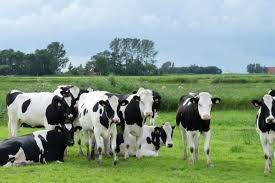waka: (76, 83, 129, 167), (173, 88, 221, 168)
